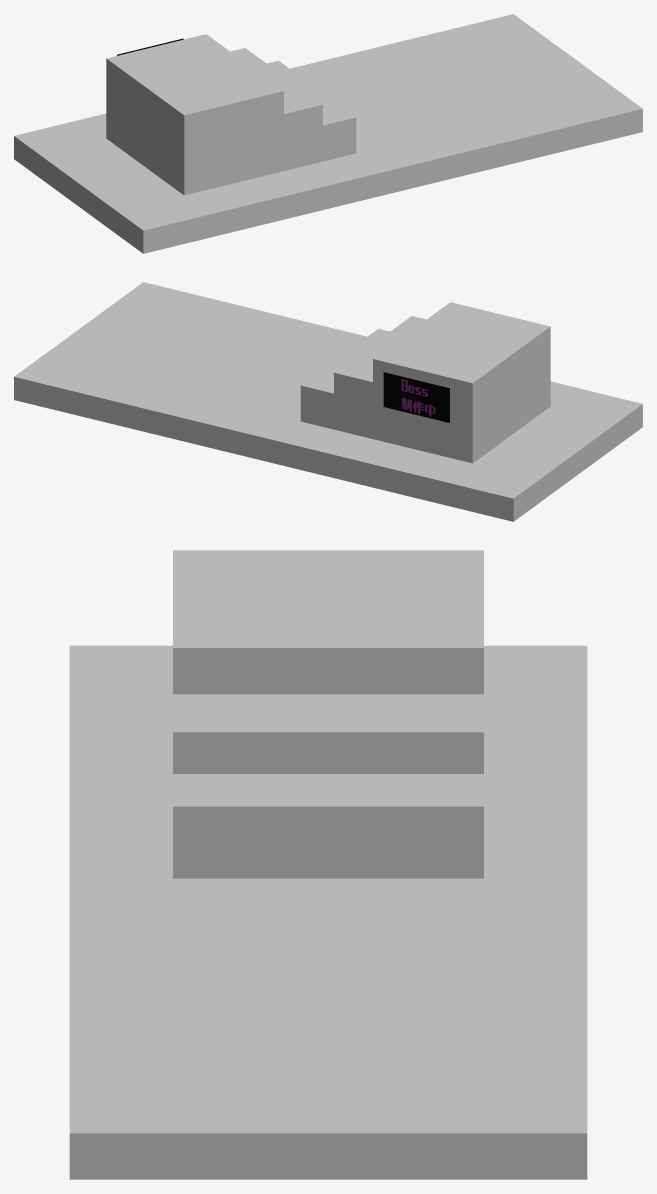
The model's file is stage_select.obj.
The picture shows the model from 3 angles, top to bottom: view 1: azimuth 30°, elevation 25°; view 2: azimuth 150°, elevation 25°; view 3: azimuth 270°, elevation 25°; orthographic projection. The views are drawn at different scales.
Visible parts, largest first — view 1: 立方体, 立方体.003, 立方体.004, 立方体.005; view 2: 立方体, 立方体.003, 立方体.004, 立方体.005, 平面; view 3: 立方体, 立方体.003, 立方体.005, 立方体.004.
Part boxes in pixels (x1,y1,x2,y2): 立方体: [14, 14, 642, 253]; 立方体.003: [106, 34, 283, 195]; 立方体.004: [230, 48, 322, 172]; 立方体.005: [267, 60, 356, 163]; 立方体: [14, 282, 642, 521]; 立方体.003: [373, 302, 550, 463]; 立方体.004: [334, 316, 426, 440]; 立方体.005: [300, 328, 389, 432]; 平面: [383, 372, 449, 422]; 立方体: [69, 645, 587, 1179]; 立方体.003: [173, 550, 483, 694]; 立方体.005: [173, 774, 483, 878]; 立方体.004: [173, 694, 483, 773].
Size of the model in its own units: 45 by 8.9 by 20.2.
